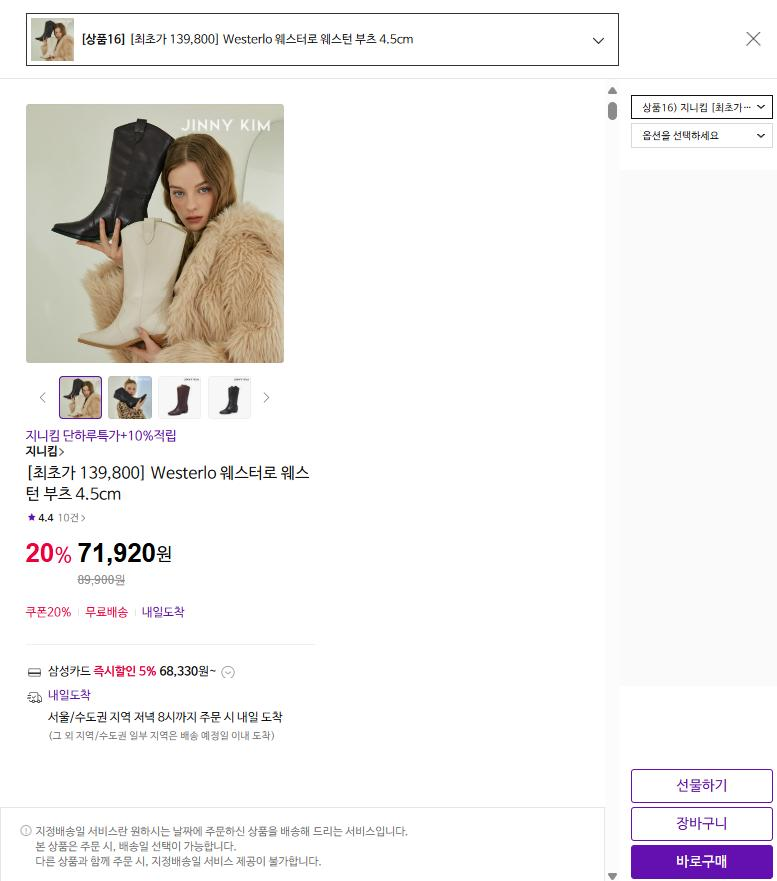button: (631, 806, 773, 848), (629, 766, 771, 805), (631, 846, 771, 880), (28, 375, 59, 414), (48, 505, 94, 528), (28, 446, 72, 461), (260, 389, 285, 415), (212, 664, 235, 684)
checkbox: (25, 8, 618, 66), (631, 121, 774, 150), (629, 94, 773, 119)
